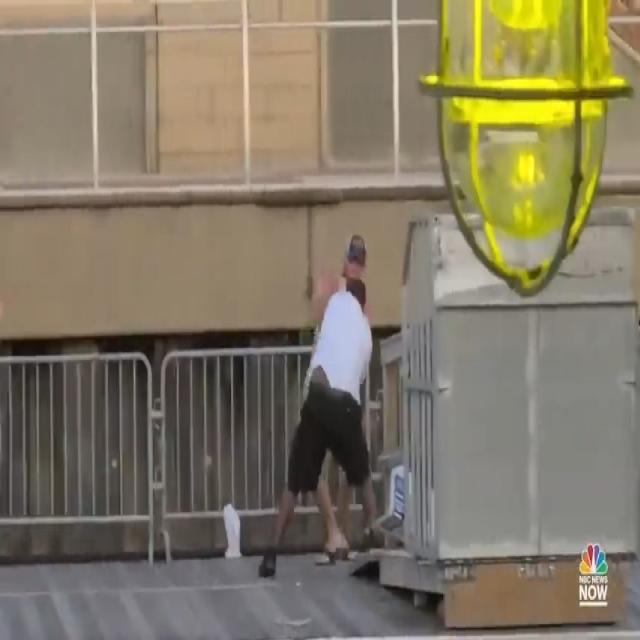fight: (256, 224, 392, 585)
